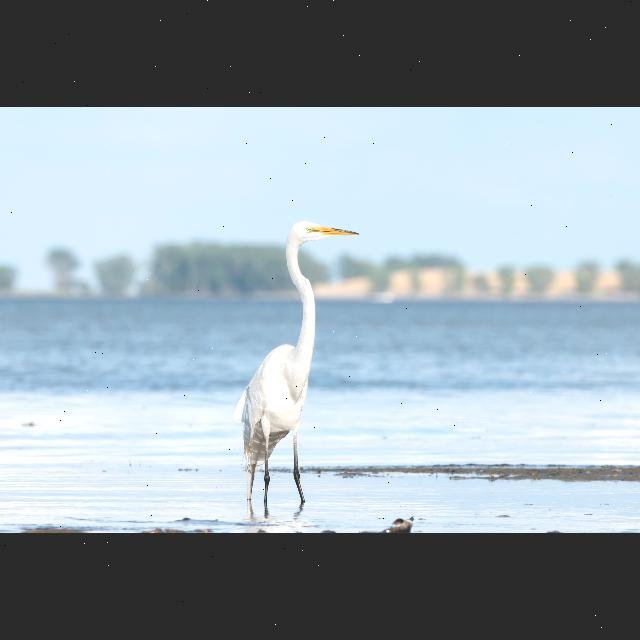egret: (238, 217, 359, 516)
